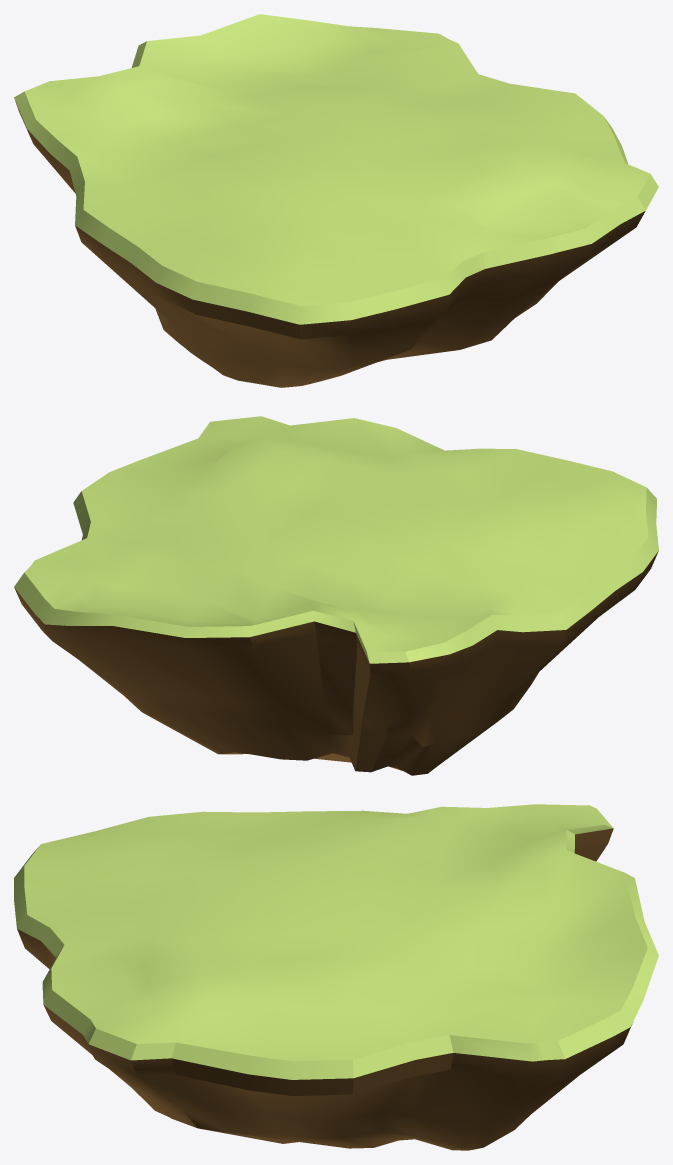
Rendered from island_floating.fbx.
3 renders of one model, top to bottom at view 1: azimuth 30°, elevation 25°; view 2: azimuth 150°, elevation 25°; view 3: azimuth 270°, elevation 25°, orthographic. The views are drawn at different scales.
Visible parts, largest first — view 1: island_floating; view 2: island_floating; view 3: island_floating.
Part boxes in pixels (x1,y1,x2,y2): island_floating: (14, 14, 658, 387); island_floating: (14, 416, 658, 775); island_floating: (14, 804, 658, 1150).
Size of the model in its own units: 887 by 367 by 933.
